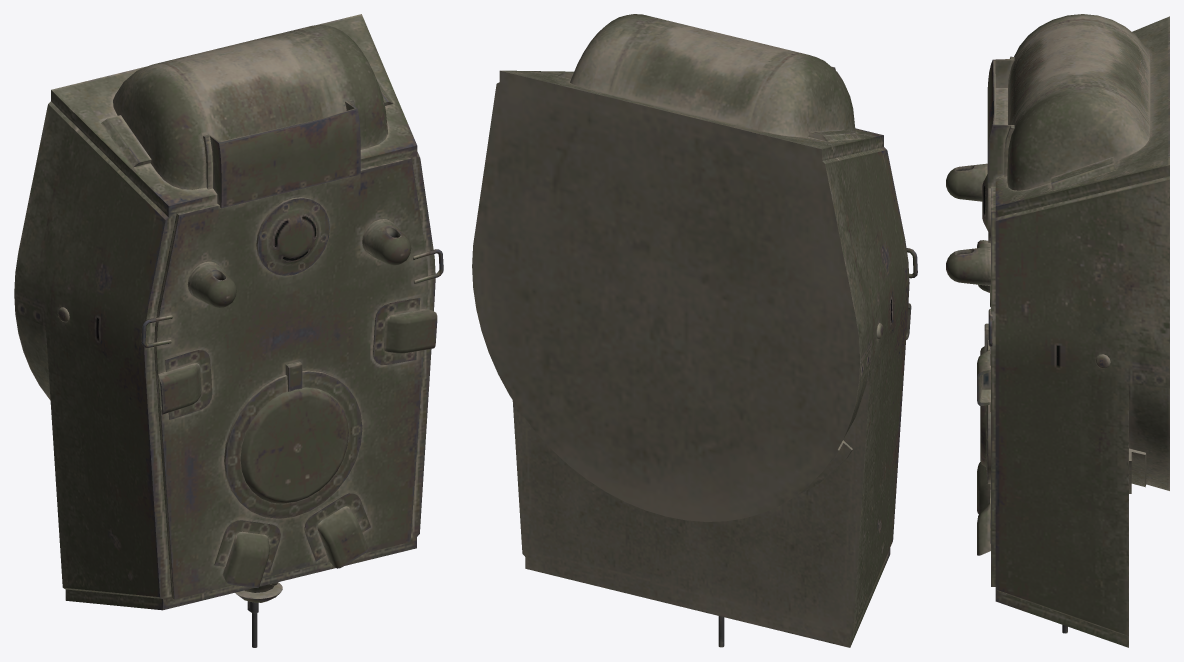
The model's file is Turret_01.glb.
3 renders of one model, left to right at view 1: azimuth 30°, elevation 25°; view 2: azimuth 150°, elevation 25°; view 3: azimuth 270°, elevation 25°, orthographic. The views are drawn at different scales.
Parts seen in each view (by area): view 1: set_0_group_0; view 2: set_0_group_0; view 3: set_0_group_0.
Boxes of the visible parts, x1=… form: set_0_group_0: x1=14, y1=14, x2=443, y2=647; set_0_group_0: x1=472, y1=14, x2=917, y2=647; set_0_group_0: x1=946, y1=14, x2=1169, y2=647.
Size of the model in its own units: 1.96 by 2.96 by 1.04.
Materials: 1 (1 with a texture image).
